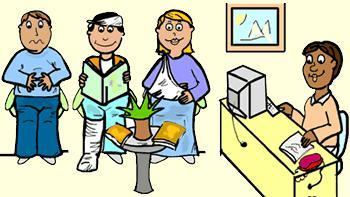person: (140, 8, 212, 164), (2, 9, 71, 164), (75, 9, 133, 170), (278, 40, 343, 152)
pottedplant: (117, 94, 161, 142)
